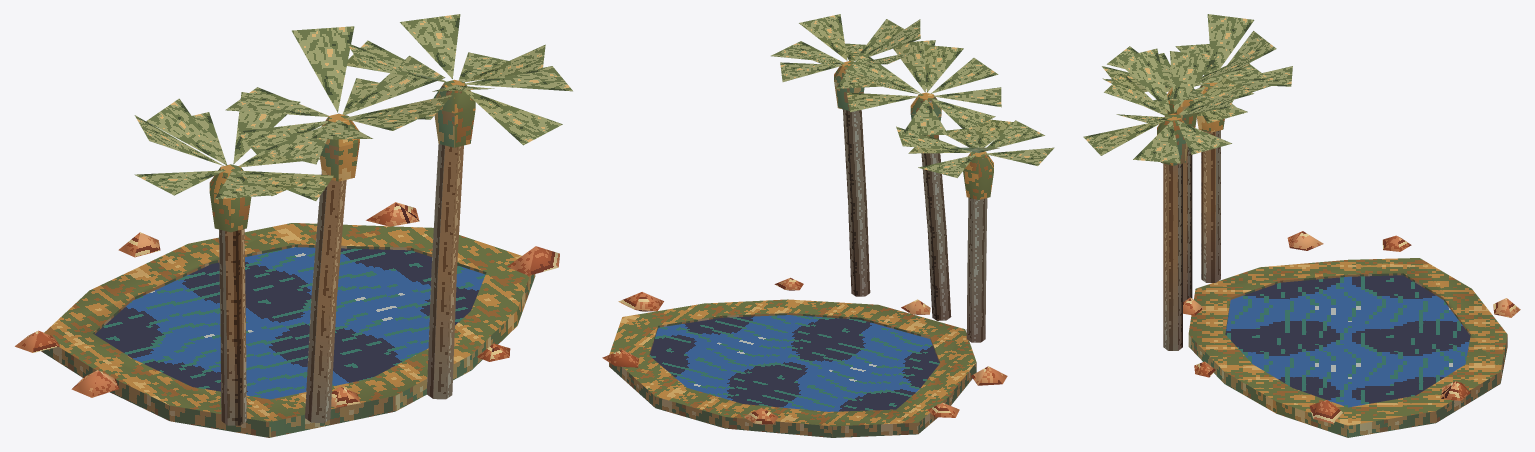
Rendered from wland.oasis__big.glb.
3 views of the same model, side by side, from view 1: azimuth 30°, elevation 25°; view 2: azimuth 150°, elevation 25°; view 3: azimuth 270°, elevation 25° (orthographic). The views are drawn at different scales.
Parts seen in each view (by area): view 1: kit_water, kit_bank, kit_card_fronds_back, kit_trunks, kit_skirts, kit_rocks; view 2: kit_water, kit_bank, kit_card_fronds_back, kit_trunks, kit_rocks, kit_skirts; view 3: kit_water, kit_bank, kit_card_fronds_back, kit_trunks, kit_rocks, kit_skirts.
Part boxes in pixels (x1,y1,x2,y2): kit_water: (94,247,485,399); kit_bank: (41,223,535,437); kit_card_fronds_back: (134,14,572,200); kit_trunks: (219,86,463,425); kit_skirts: (209,79,475,232); kit_rocks: (15,202,559,407); kit_water: (649,315,939,411); kit_bank: (609,299,976,437); kit_card_fronds_back: (771,14,1054,177); kit_trunks: (840,66,987,342); kit_rocks: (602,277,1007,424); kit_skirts: (834,61,993,199); kit_water: (1225,275,1470,407); kit_bank: (1188,258,1507,437); kit_card_fronds_back: (1083,14,1292,163); kit_trunks: (1163,86,1220,350); kit_rocks: (1183,231,1520,423); kit_skirts: (1157,82,1224,165).
Size of the model in its own units: 10.04 by 7.03 by 9.8.
Materials: 6 (6 with a texture image).
